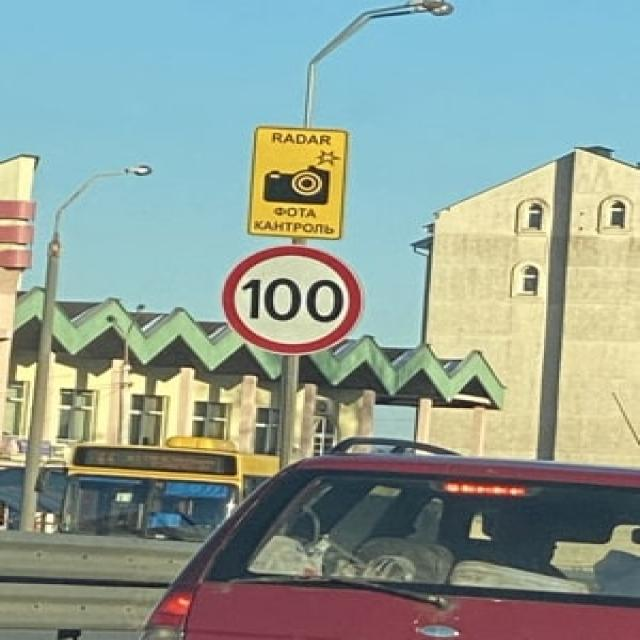Speed Limit -100-: (240, 276, 346, 322)
